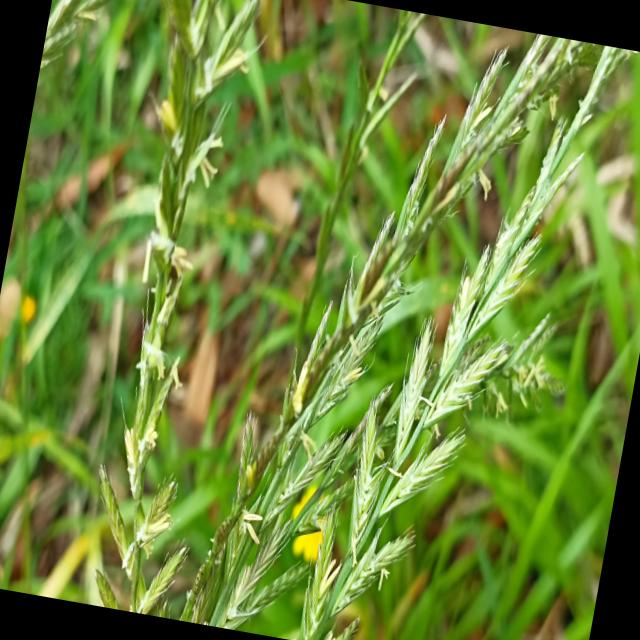Lolium: (180, 0, 634, 640), (176, 0, 603, 640), (296, 10, 632, 640), (56, 0, 287, 617), (39, 0, 162, 90)
